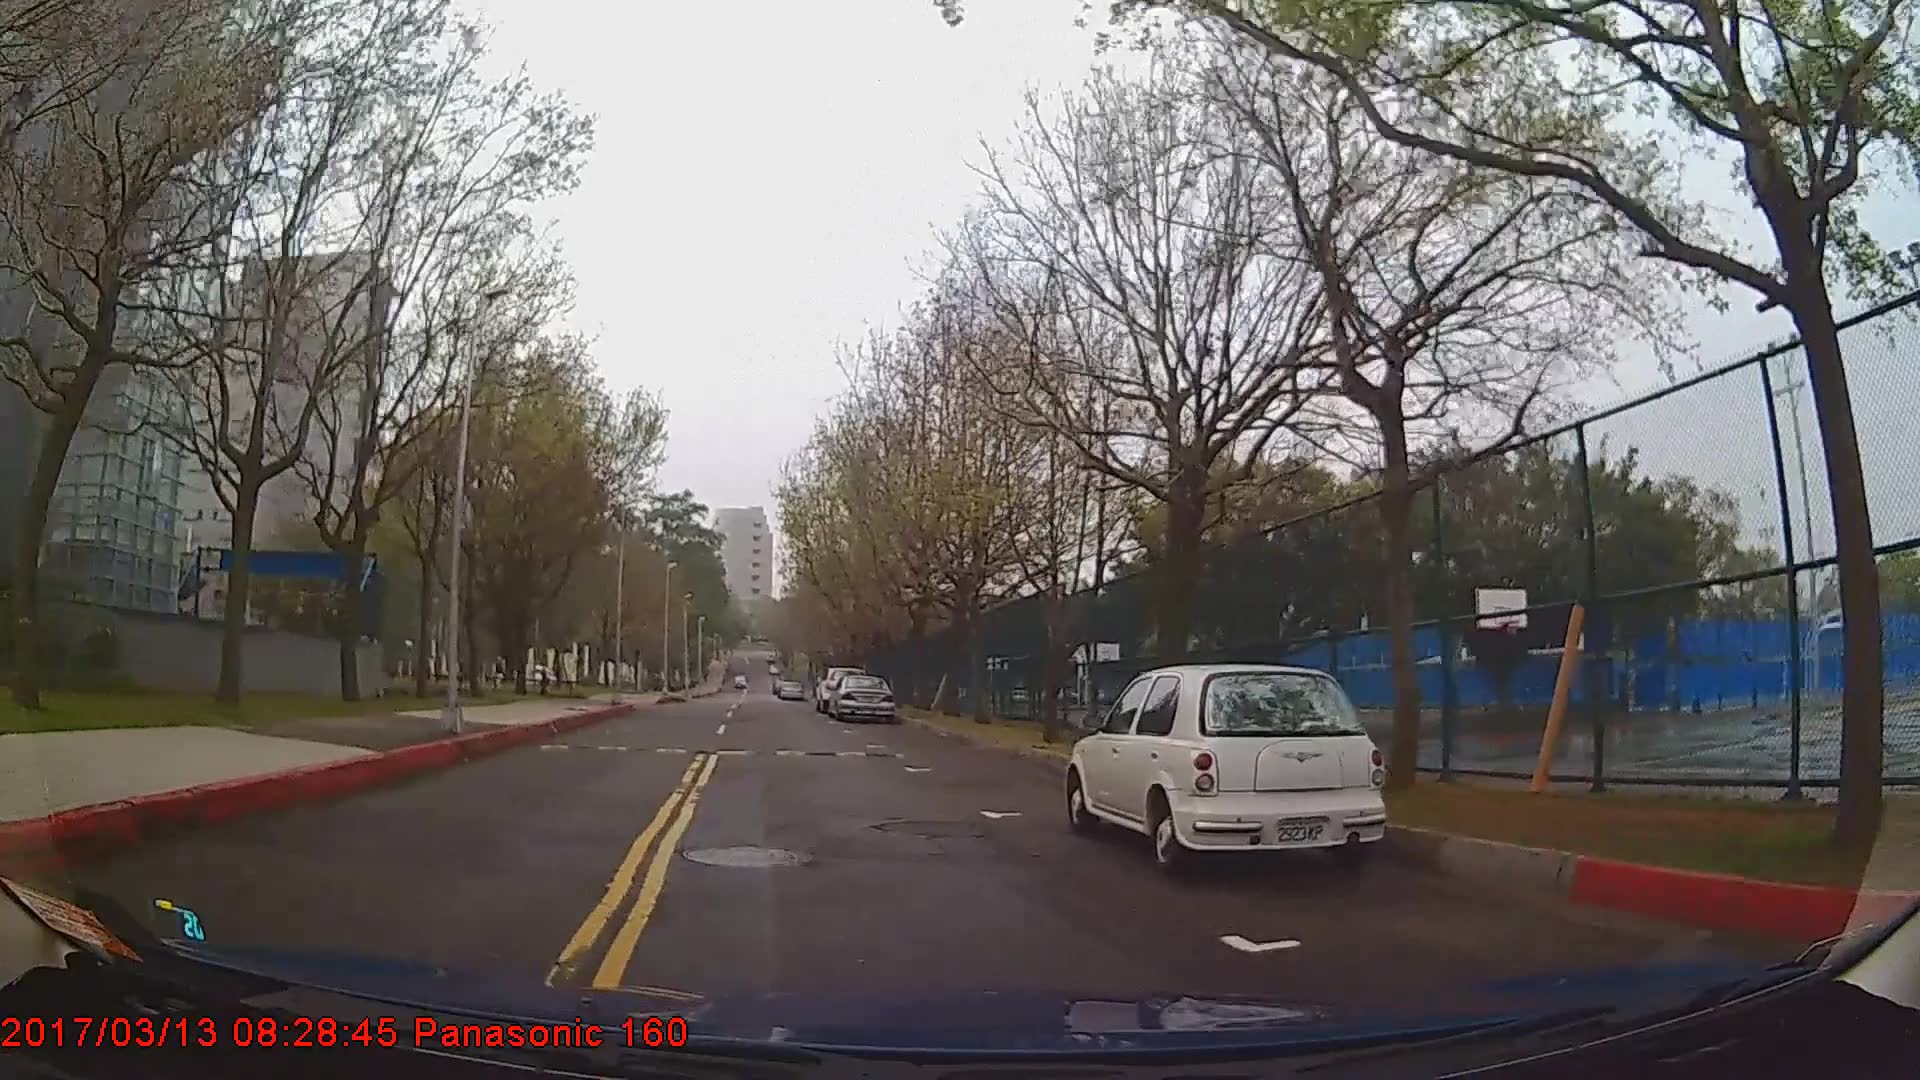vehicle: (1060, 661, 1386, 880), (824, 673, 894, 721)
